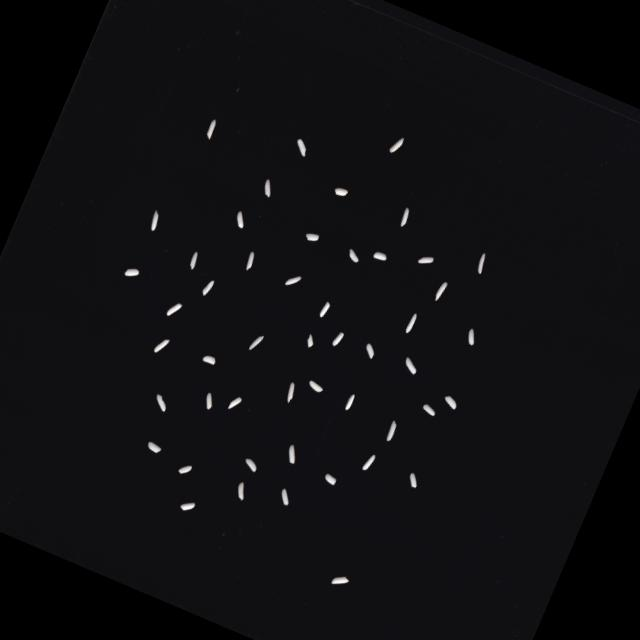Not: (284, 442, 302, 464), (432, 278, 448, 302), (292, 136, 311, 156), (152, 334, 170, 355), (282, 380, 298, 403), (146, 208, 162, 231), (151, 392, 170, 411), (276, 486, 294, 506), (165, 298, 183, 318), (248, 330, 264, 352), (233, 480, 250, 500), (388, 134, 405, 154), (330, 571, 350, 588), (384, 418, 398, 442), (474, 250, 488, 274), (178, 496, 196, 514), (402, 356, 420, 374), (404, 310, 418, 333), (204, 116, 218, 139), (260, 177, 276, 197), (200, 276, 215, 297), (361, 451, 376, 472), (242, 455, 260, 472), (285, 270, 302, 288), (442, 392, 459, 410), (123, 263, 141, 280), (232, 209, 248, 228), (306, 378, 325, 394), (228, 392, 243, 412), (398, 206, 412, 227), (406, 470, 422, 488), (464, 326, 479, 345), (202, 390, 216, 410), (243, 250, 257, 270), (362, 341, 378, 358), (187, 250, 200, 270), (177, 460, 193, 476), (418, 251, 434, 267), (330, 328, 344, 346), (343, 392, 356, 411), (318, 299, 331, 318), (146, 439, 162, 454), (346, 248, 361, 263), (322, 471, 338, 485), (333, 184, 349, 198), (304, 228, 320, 242), (421, 402, 437, 416), (372, 249, 388, 262), (201, 352, 217, 365), (304, 332, 317, 348)
